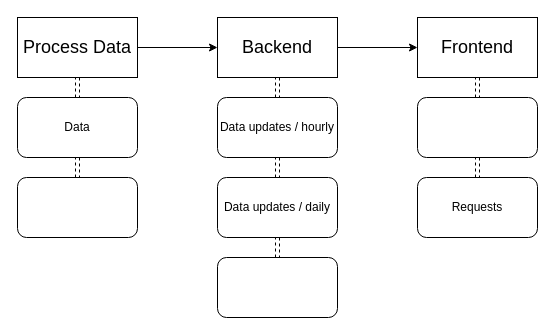
This 555x335 diagram has some shape labels left out. The shapes that lost their labels are listed below. From the top down, each one's box as (x1, y1, x2, y2) in pixels, then its label:
(416, 96, 538, 158): UI
(16, 176, 138, 238): Pre-process archive data
(216, 256, 338, 318): Response to frontend requests
